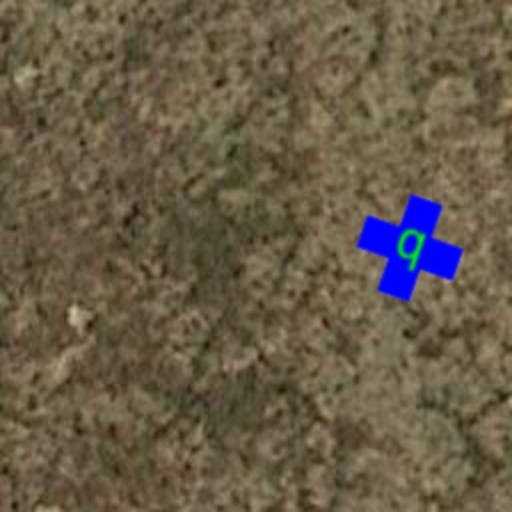cross: (344, 182, 476, 314)
